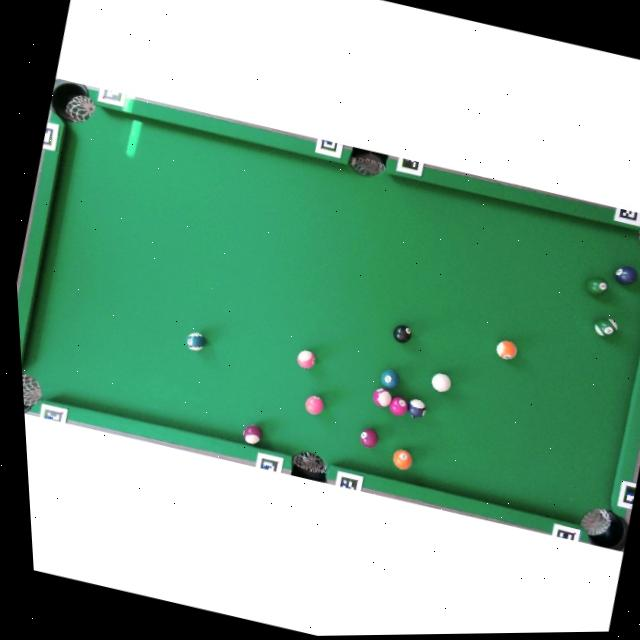cue ball: (428, 370, 454, 393)
other: (591, 314, 620, 340), (612, 263, 640, 287), (390, 447, 415, 472), (583, 275, 610, 298), (386, 394, 411, 418), (493, 338, 519, 361), (356, 426, 380, 450), (302, 393, 326, 417), (369, 386, 394, 409), (378, 367, 402, 390), (404, 397, 428, 420), (240, 423, 264, 446), (184, 330, 208, 353), (390, 322, 413, 345), (294, 348, 318, 370)
